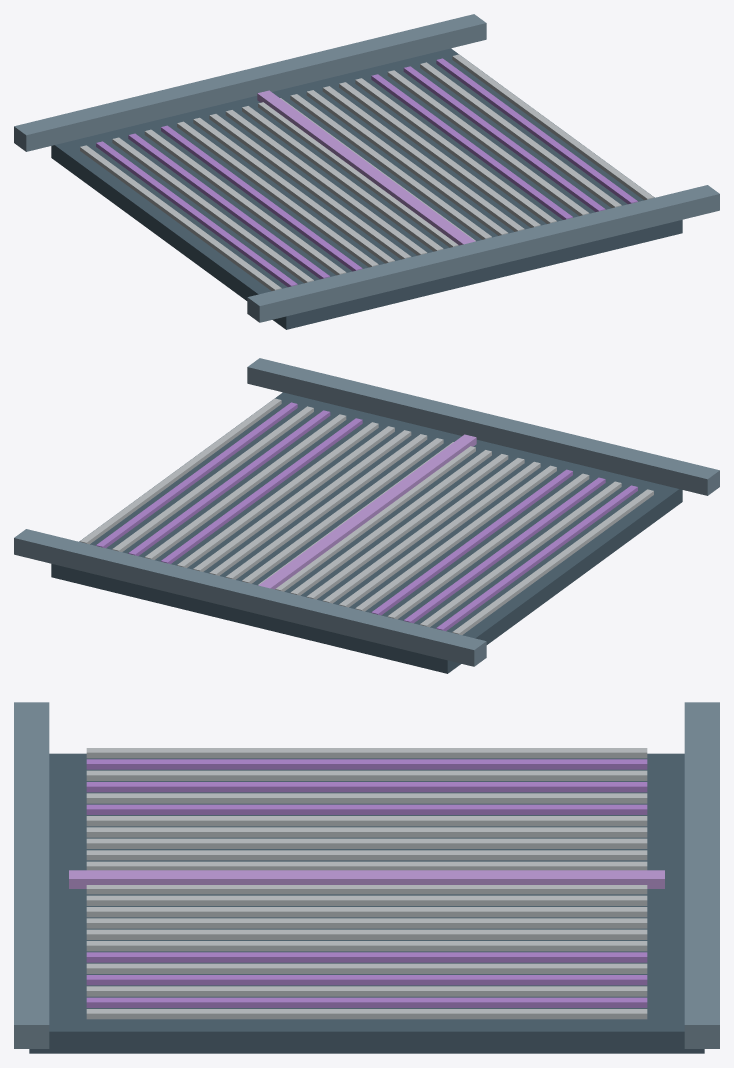
File: 40_L74_PrecisionScanSlitAssembly.glb
3 views of the same model, one above another, from view 1: azimuth 30°, elevation 25°; view 2: azimuth 150°, elevation 25°; view 3: azimuth 270°, elevation 25° (orthographic). The views are drawn at different scales.
Parts seen in each view (by area): view 1: PrecisionScanSlitAssembly_Node_0000, PrecisionScanSlitAssembly_Node_0027, PrecisionScanSlitAssembly_Node_0026, PrecisionScanSlitAssembly_Node_0025, PrecisionScanSlitAssembly_Node_0005, PrecisionScanSlitAssembly_Node_0016, PrecisionScanSlitAssembly_Node_0021, PrecisionScanSlitAssembly_Node_0004, PrecisionScanSlitAssembly_Node_0010, PrecisionScanSlitAssembly_Node_0003, PrecisionScanSlitAssembly_Node_0007, PrecisionScanSlitAssembly_Node_0008 (+15 smaller); view 2: PrecisionScanSlitAssembly_Node_0000, PrecisionScanSlitAssembly_Node_0026, PrecisionScanSlitAssembly_Node_0027, PrecisionScanSlitAssembly_Node_0025, PrecisionScanSlitAssembly_Node_0005, PrecisionScanSlitAssembly_Node_0016, PrecisionScanSlitAssembly_Node_0021, PrecisionScanSlitAssembly_Node_0004, PrecisionScanSlitAssembly_Node_0010, PrecisionScanSlitAssembly_Node_0003, PrecisionScanSlitAssembly_Node_0007, PrecisionScanSlitAssembly_Node_0008 (+15 smaller); view 3: PrecisionScanSlitAssembly_Node_0000, PrecisionScanSlitAssembly_Node_0026, PrecisionScanSlitAssembly_Node_0027, PrecisionScanSlitAssembly_Node_0025, PrecisionScanSlitAssembly_Node_0002, PrecisionScanSlitAssembly_Node_0005, PrecisionScanSlitAssembly_Node_0008, PrecisionScanSlitAssembly_Node_0016, PrecisionScanSlitAssembly_Node_0019, PrecisionScanSlitAssembly_Node_0022, PrecisionScanSlitAssembly_Node_0001, PrecisionScanSlitAssembly_Node_0003 (+15 smaller).
Boxes of the visible parts, box(x1,y1,x2,y2) form: PrecisionScanSlitAssembly_Node_0000: box(51, 48, 682, 329); PrecisionScanSlitAssembly_Node_0027: box(247, 185, 719, 322); PrecisionScanSlitAssembly_Node_0026: box(14, 14, 486, 151); PrecisionScanSlitAssembly_Node_0025: box(257, 90, 475, 245); PrecisionScanSlitAssembly_Node_0005: box(144, 129, 346, 275); PrecisionScanSlitAssembly_Node_0016: box(322, 86, 524, 231); PrecisionScanSlitAssembly_Node_0021: box(403, 66, 605, 211); PrecisionScanSlitAssembly_Node_0004: box(128, 133, 330, 279); PrecisionScanSlitAssembly_Node_0010: box(225, 110, 427, 255); PrecisionScanSlitAssembly_Node_0003: box(112, 137, 313, 283); PrecisionScanSlitAssembly_Node_0007: box(177, 121, 378, 267); PrecisionScanSlitAssembly_Node_0008: box(193, 117, 394, 263); PrecisionScanSlitAssembly_Node_0000: box(51, 392, 682, 673); PrecisionScanSlitAssembly_Node_0026: box(14, 529, 486, 666); PrecisionScanSlitAssembly_Node_0027: box(247, 358, 719, 495); PrecisionScanSlitAssembly_Node_0025: box(258, 434, 476, 589); PrecisionScanSlitAssembly_Node_0005: box(387, 473, 589, 619); PrecisionScanSlitAssembly_Node_0016: box(209, 430, 411, 575); PrecisionScanSlitAssembly_Node_0021: box(128, 410, 330, 555); PrecisionScanSlitAssembly_Node_0004: box(403, 477, 605, 623); PrecisionScanSlitAssembly_Node_0010: box(306, 454, 508, 599); PrecisionScanSlitAssembly_Node_0003: box(420, 481, 621, 627); PrecisionScanSlitAssembly_Node_0007: box(355, 465, 556, 611); PrecisionScanSlitAssembly_Node_0008: box(339, 461, 540, 607); PrecisionScanSlitAssembly_Node_0000: box(29, 753, 704, 1053); PrecisionScanSlitAssembly_Node_0026: box(684, 702, 719, 1048); PrecisionScanSlitAssembly_Node_0027: box(14, 702, 49, 1048); PrecisionScanSlitAssembly_Node_0025: box(69, 870, 664, 888); PrecisionScanSlitAssembly_Node_0002: box(86, 759, 647, 769); PrecisionScanSlitAssembly_Node_0005: box(86, 793, 647, 803); PrecisionScanSlitAssembly_Node_0008: box(86, 827, 647, 837); PrecisionScanSlitAssembly_Node_0016: box(86, 918, 647, 928); PrecisionScanSlitAssembly_Node_0019: box(86, 952, 647, 962); PrecisionScanSlitAssembly_Node_0022: box(86, 986, 647, 996); PrecisionScanSlitAssembly_Node_0001: box(86, 748, 647, 758); PrecisionScanSlitAssembly_Node_0003: box(86, 770, 647, 780).
Bounding box in the file's own units: 1.73 × 0.1275 × 1.6.
